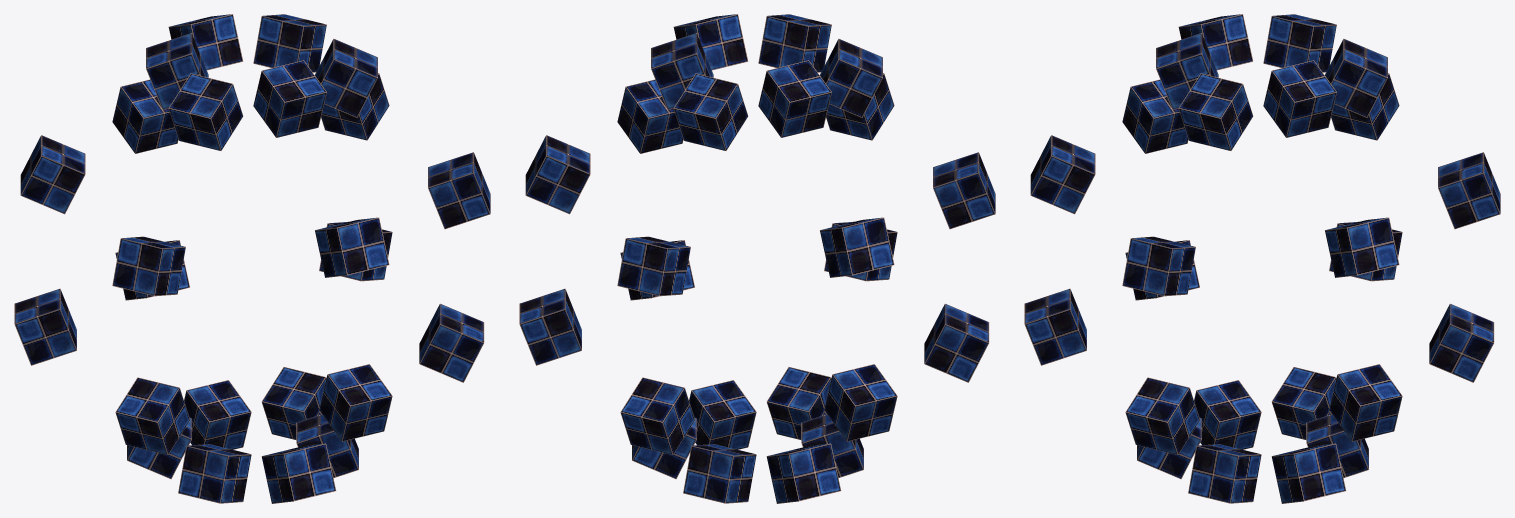
Rendered from void.obj.
The picture shows the model from 3 angles, left to right: view 1: azimuth 30°, elevation 25°; view 2: azimuth 150°, elevation 25°; view 3: azimuth 270°, elevation 25°; orthographic projection.
Bounding box in the file's own units: 0.4467 × 0.4869 × 0.4869.
Materials: 1 (1 with a texture image).
